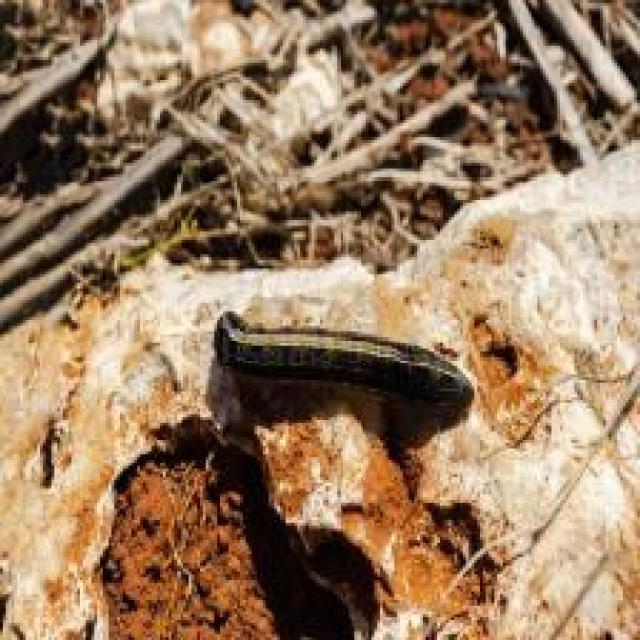Plaga: (210, 304, 487, 429)
